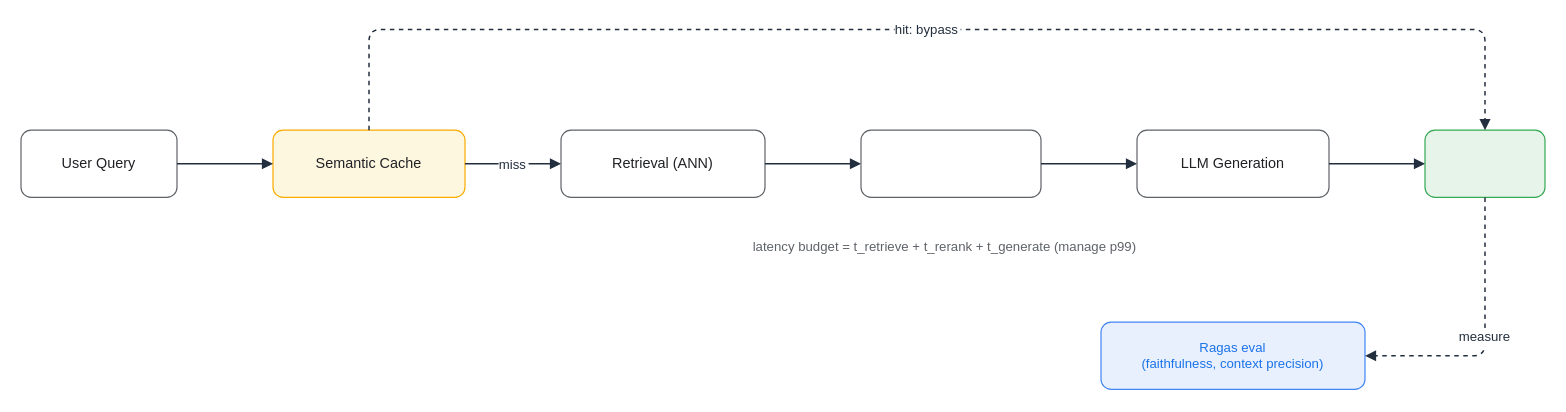
Image size: 1566x412. Some labels were removed from this diagram. The shapes that lost their labels are listed below. From the top down, each one's centre as x and y in pixels, then its label:
[950,163]: Reranking
[1484,163]: Answer
